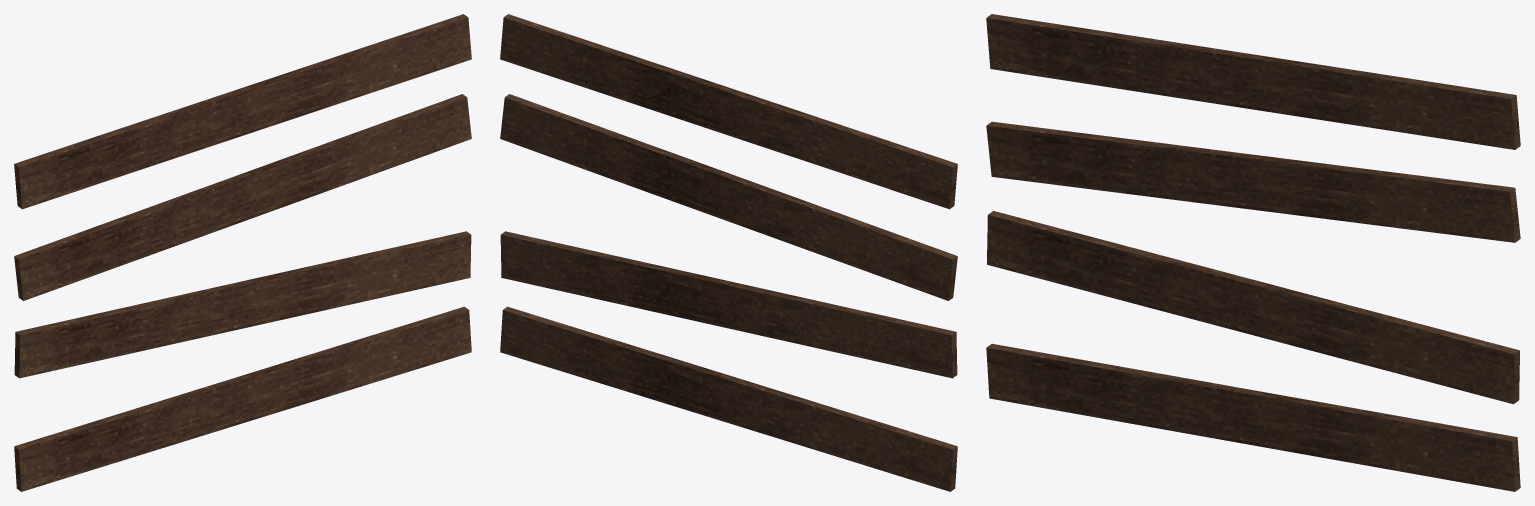
Rendered from planks_double_window.glb.
The picture shows the model from 3 angles, left to right: view 1: azimuth 30°, elevation 25°; view 2: azimuth 150°, elevation 25°; view 3: azimuth 330°, elevation 25°; orthographic projection. The views are drawn at different scales.
Visible parts, largest first — view 1: planks_double_window2; view 2: planks_double_window2; view 3: planks_double_window2.
Part boxes in pixels (x1,y1,x2,y2): planks_double_window2: (14,14,471,491); planks_double_window2: (500,14,957,491); planks_double_window2: (986,14,1520,491).
Bounding box in the file's own units: 2.21 × 1.7 × 0.04.
Materials: 1 (1 with a texture image).
